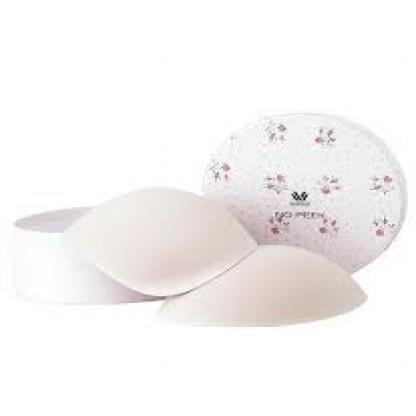paper: (201, 111, 406, 272), (56, 186, 258, 292), (155, 242, 368, 326), (10, 207, 163, 300)
